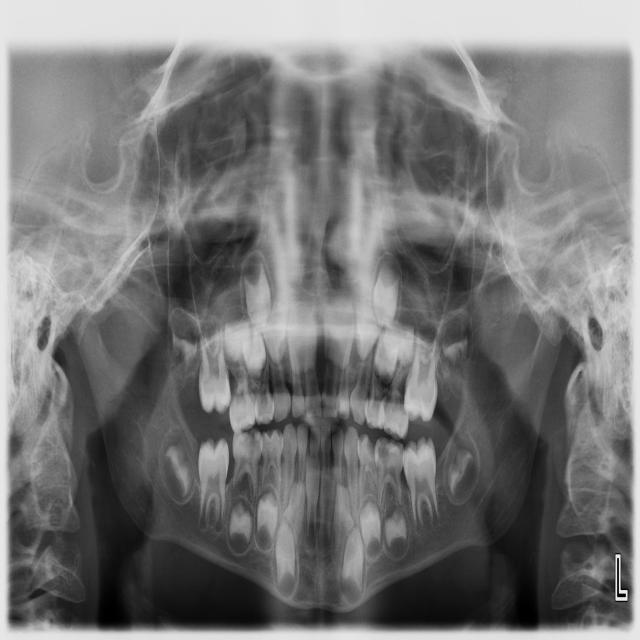mandibula: (75, 306, 562, 609)
